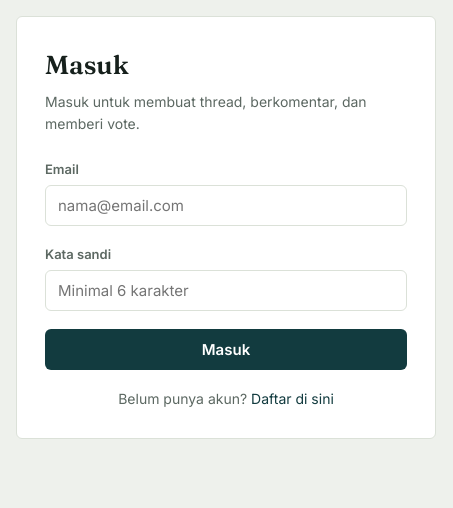
Scenario: LoginPage › should show validation errors when the form is submitted while empty
Click the button "Masuk" at (226, 350), box [45,329,407,370]
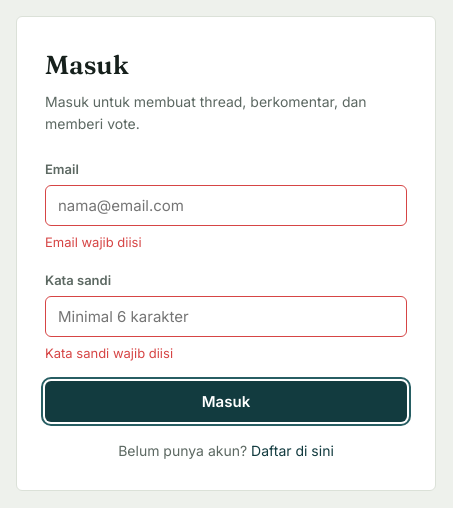
Check: the text "Email wajib diisi" is shown, box [45,234,142,250]
Check: the text "Kata sandi wajib diisi" is shown, box [45,345,173,361]
